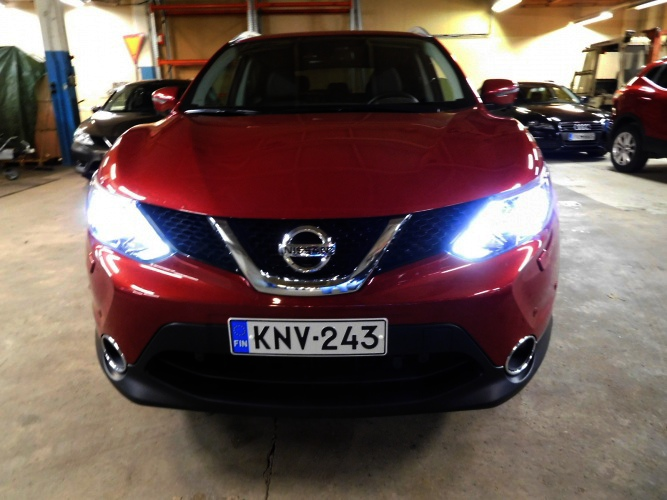license: (223, 316, 385, 363)
